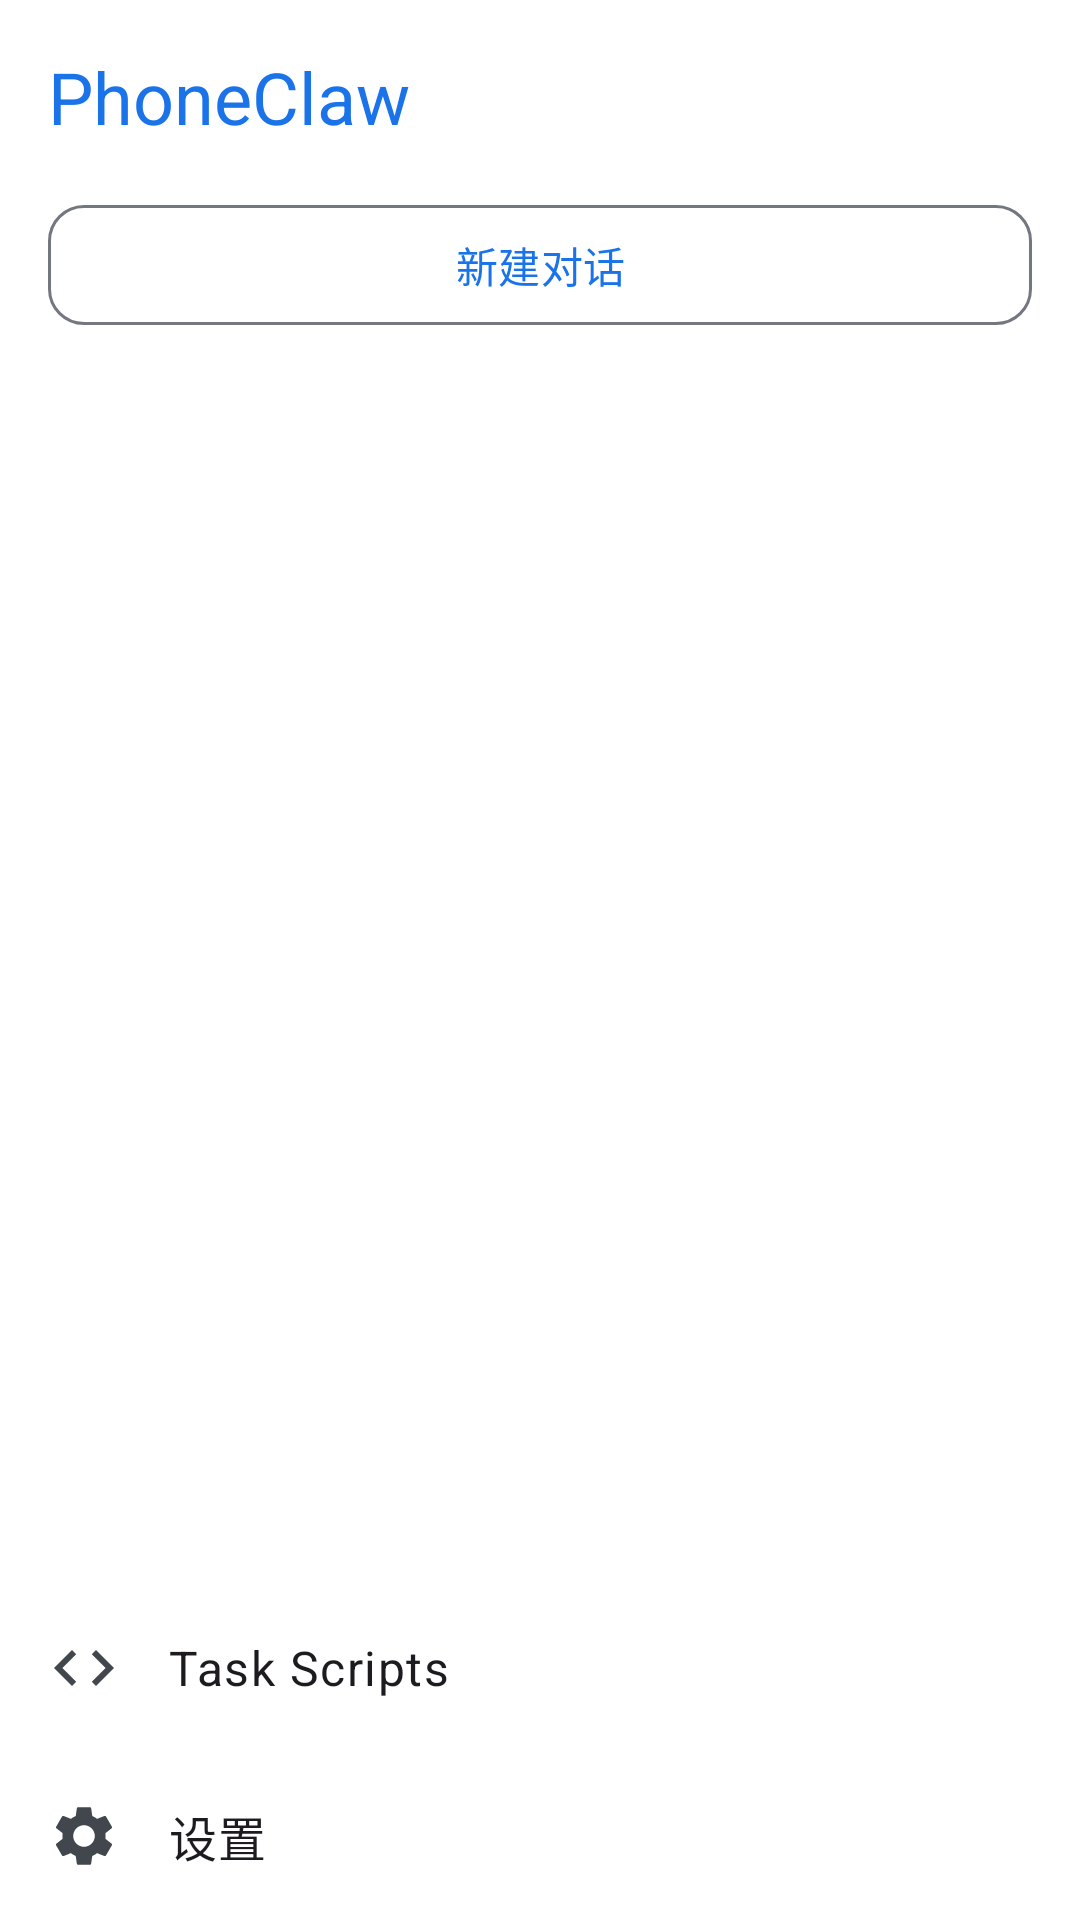

Named icons in this screenshot (1080px x 1920px) and their bounding boxes, region(x1, y1, x2, y2):
code: region(54, 1650, 114, 1686)
settings: region(56, 1807, 112, 1865)
